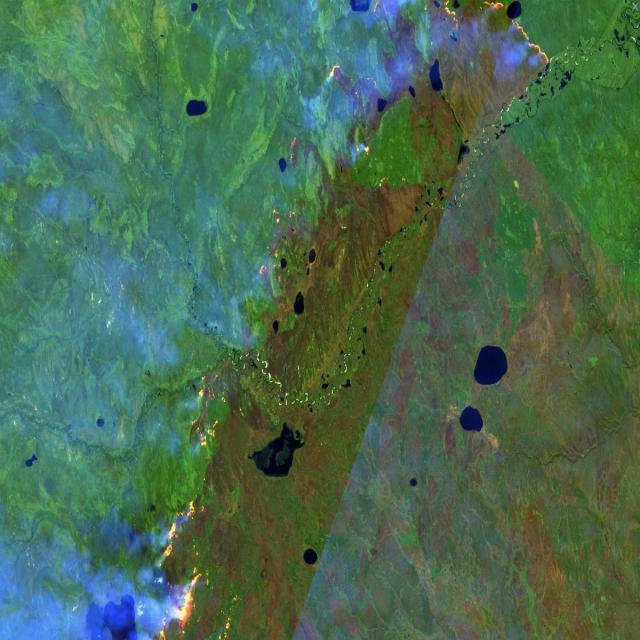fire: (138, 0, 552, 640)
